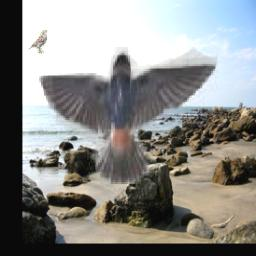Sparrow: (27, 29, 47, 54)
Swallow: (38, 48, 223, 185)
